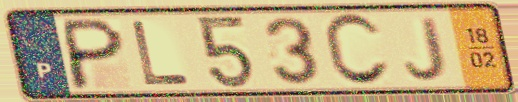3: (261, 14, 321, 87)
5: (192, 14, 257, 90)
C: (320, 10, 395, 90)
J: (402, 15, 450, 83)
L: (128, 19, 194, 88)
P: (62, 15, 128, 92)
